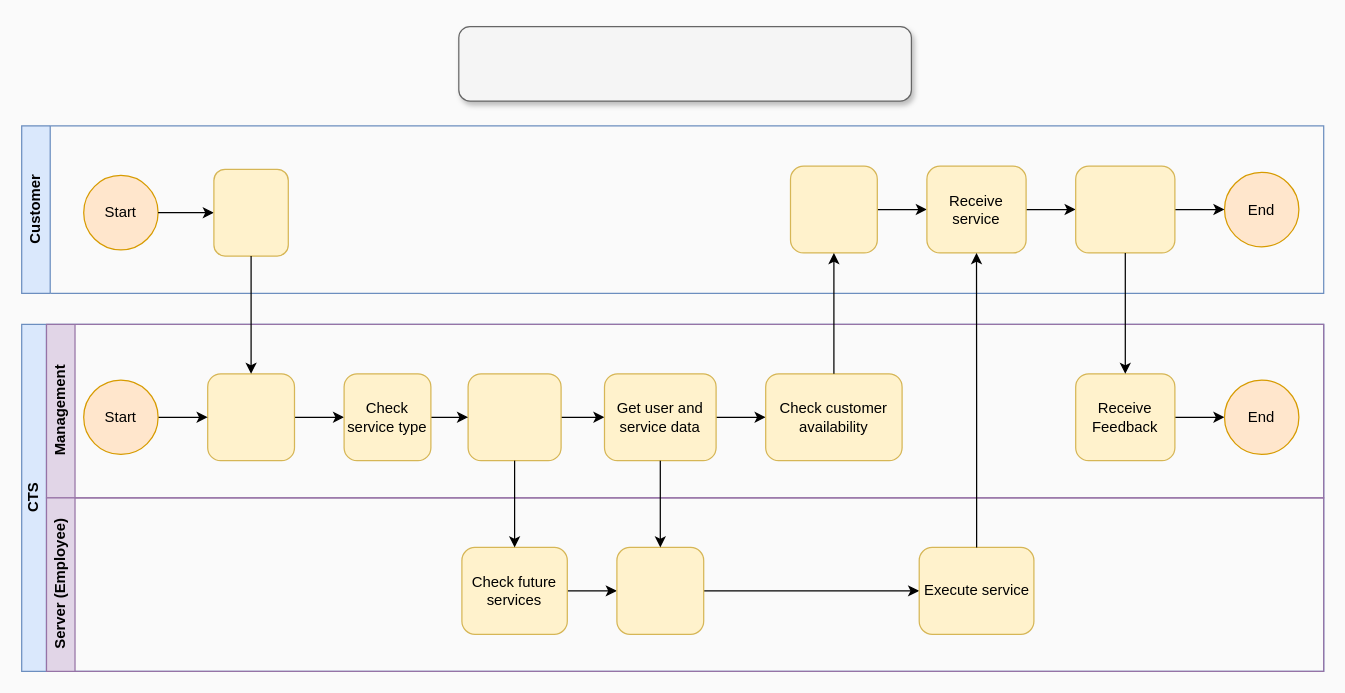
Image size: 1345x693. Some labels were removed from this diagram. The shapes that lost their labels are listed below. From the top down, each one's centre as x and y in pixels, then its label:
At [686,65]: "CTS service hire and execution process".
At [250,212]: "Order service".
At [833,209]: "Confirm availability".
At [1124,209]: "Give Feedback".
At [250,417]: "Receive order".
At [514,417]: "Assign to employee".
At [660,590]: "Prepare material".
